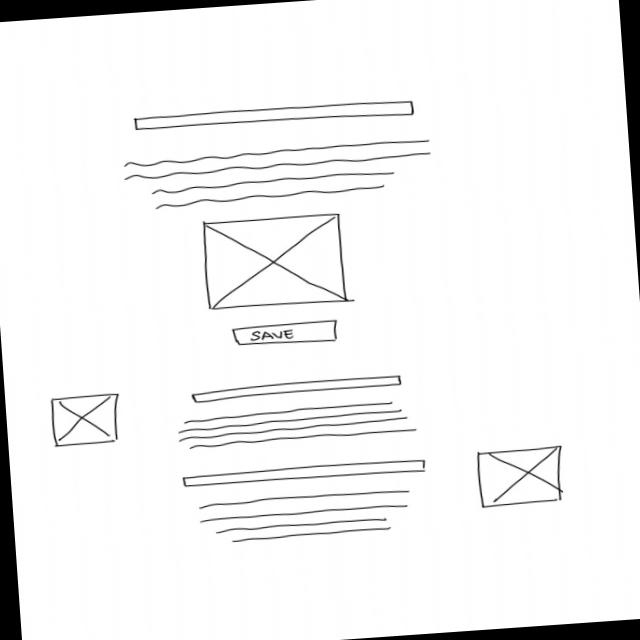image: (200, 211, 352, 314), (476, 444, 569, 511), (49, 393, 125, 449)
input: (134, 97, 416, 135), (182, 458, 428, 492), (191, 374, 405, 405)
textbox: (121, 138, 438, 214), (195, 486, 416, 549), (174, 399, 419, 452)
